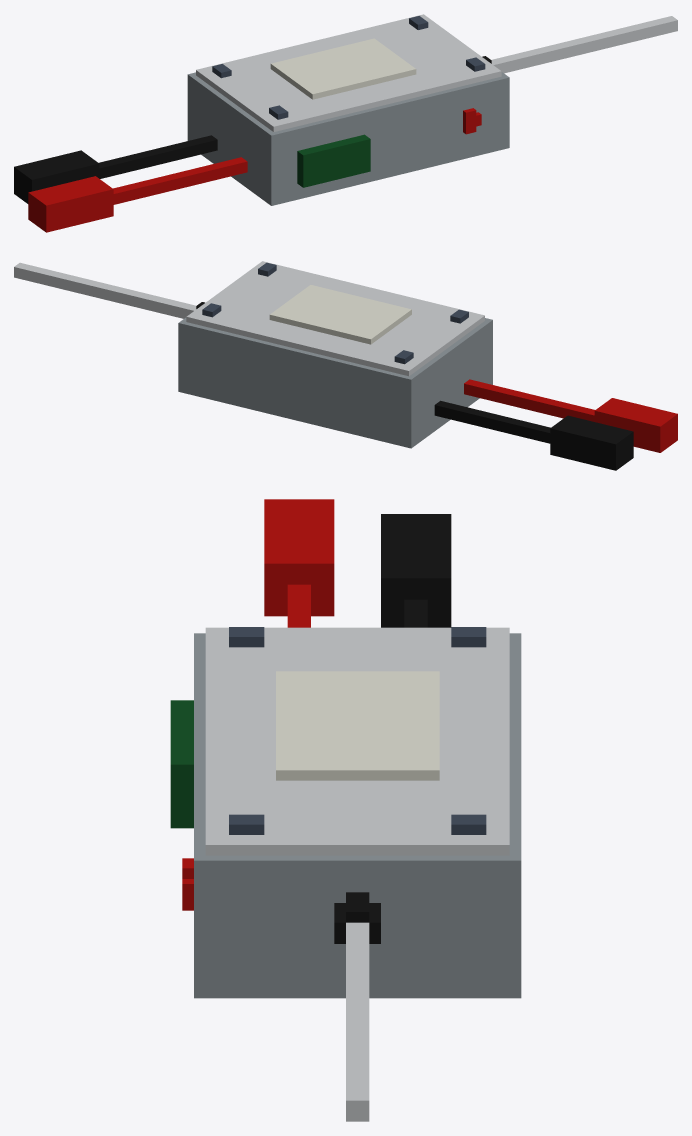
The model's file is radio_mod.glb.
The picture shows the model from 3 angles, top to bottom: view 1: azimuth 30°, elevation 25°; view 2: azimuth 150°, elevation 25°; view 3: azimuth 270°, elevation 25°; orthographic projection. The views are drawn at different scales.
Parts seen in each view (by area): view 1: radio_mod:compound; view 2: radio_mod:compound; view 3: radio_mod:compound.
Boxes of the visible parts, x1,y1,x2,y2 form: radio_mod:compound: (14, 14, 677, 232); radio_mod:compound: (14, 261, 677, 470); radio_mod:compound: (170, 499, 521, 1121).
Size of the model in its own units: 0.252 by 0.03 by 0.06.
